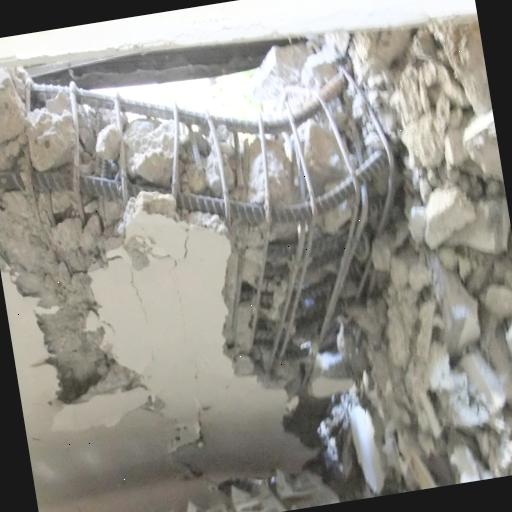spalling: (0, 57, 404, 396)
